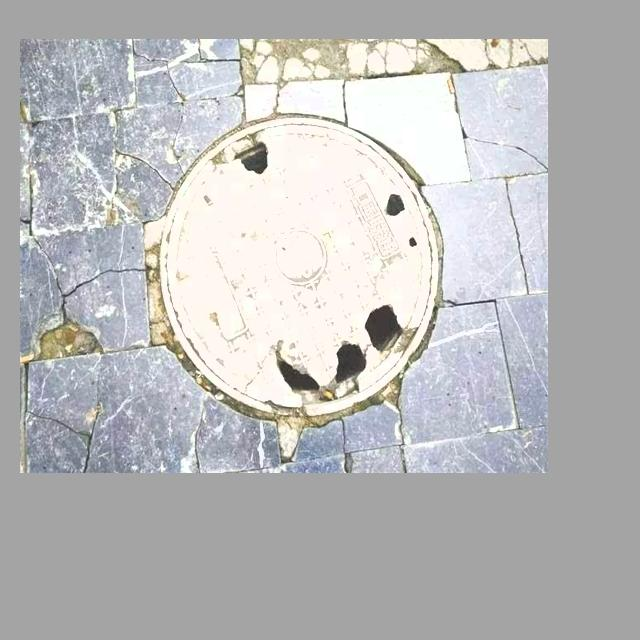broke: (159, 117, 439, 417)
